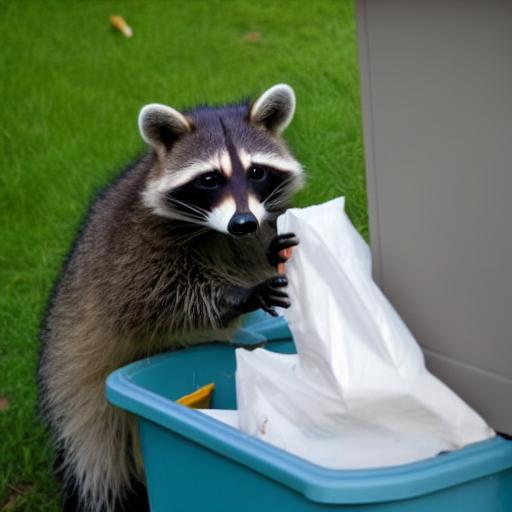raccoon: (30, 76, 316, 512)
